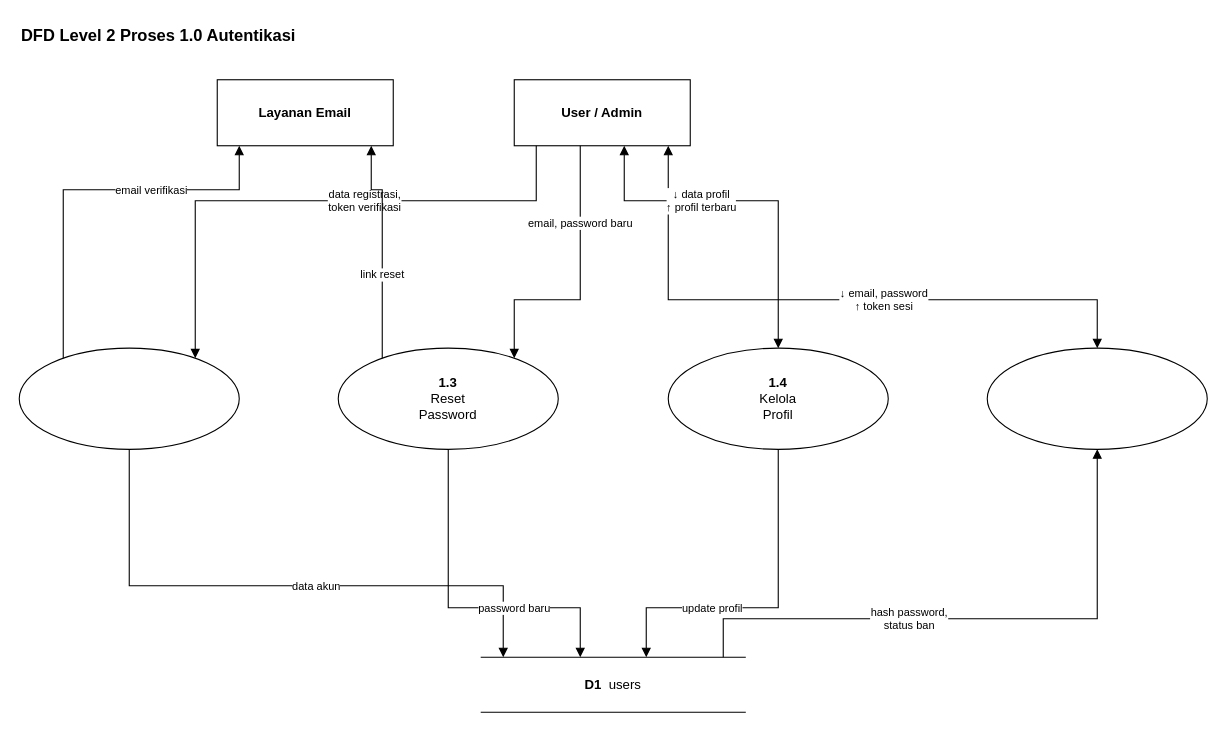
Some shapes in this 1227 by 732 pixel diagram are drawn without their labels. The shapes that lost their labels are listed below. From the top down, each one's centre as x and y in pixels, then its label:
the point at 128,398: 1.1 Registrasi dan Verifikasi Email
the point at 1096,398: 1.2 Login dan Logout
